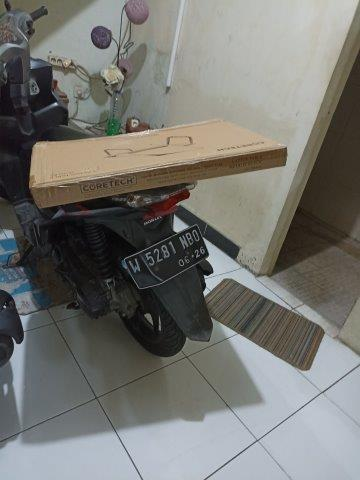kardus: (32, 120, 287, 208)
